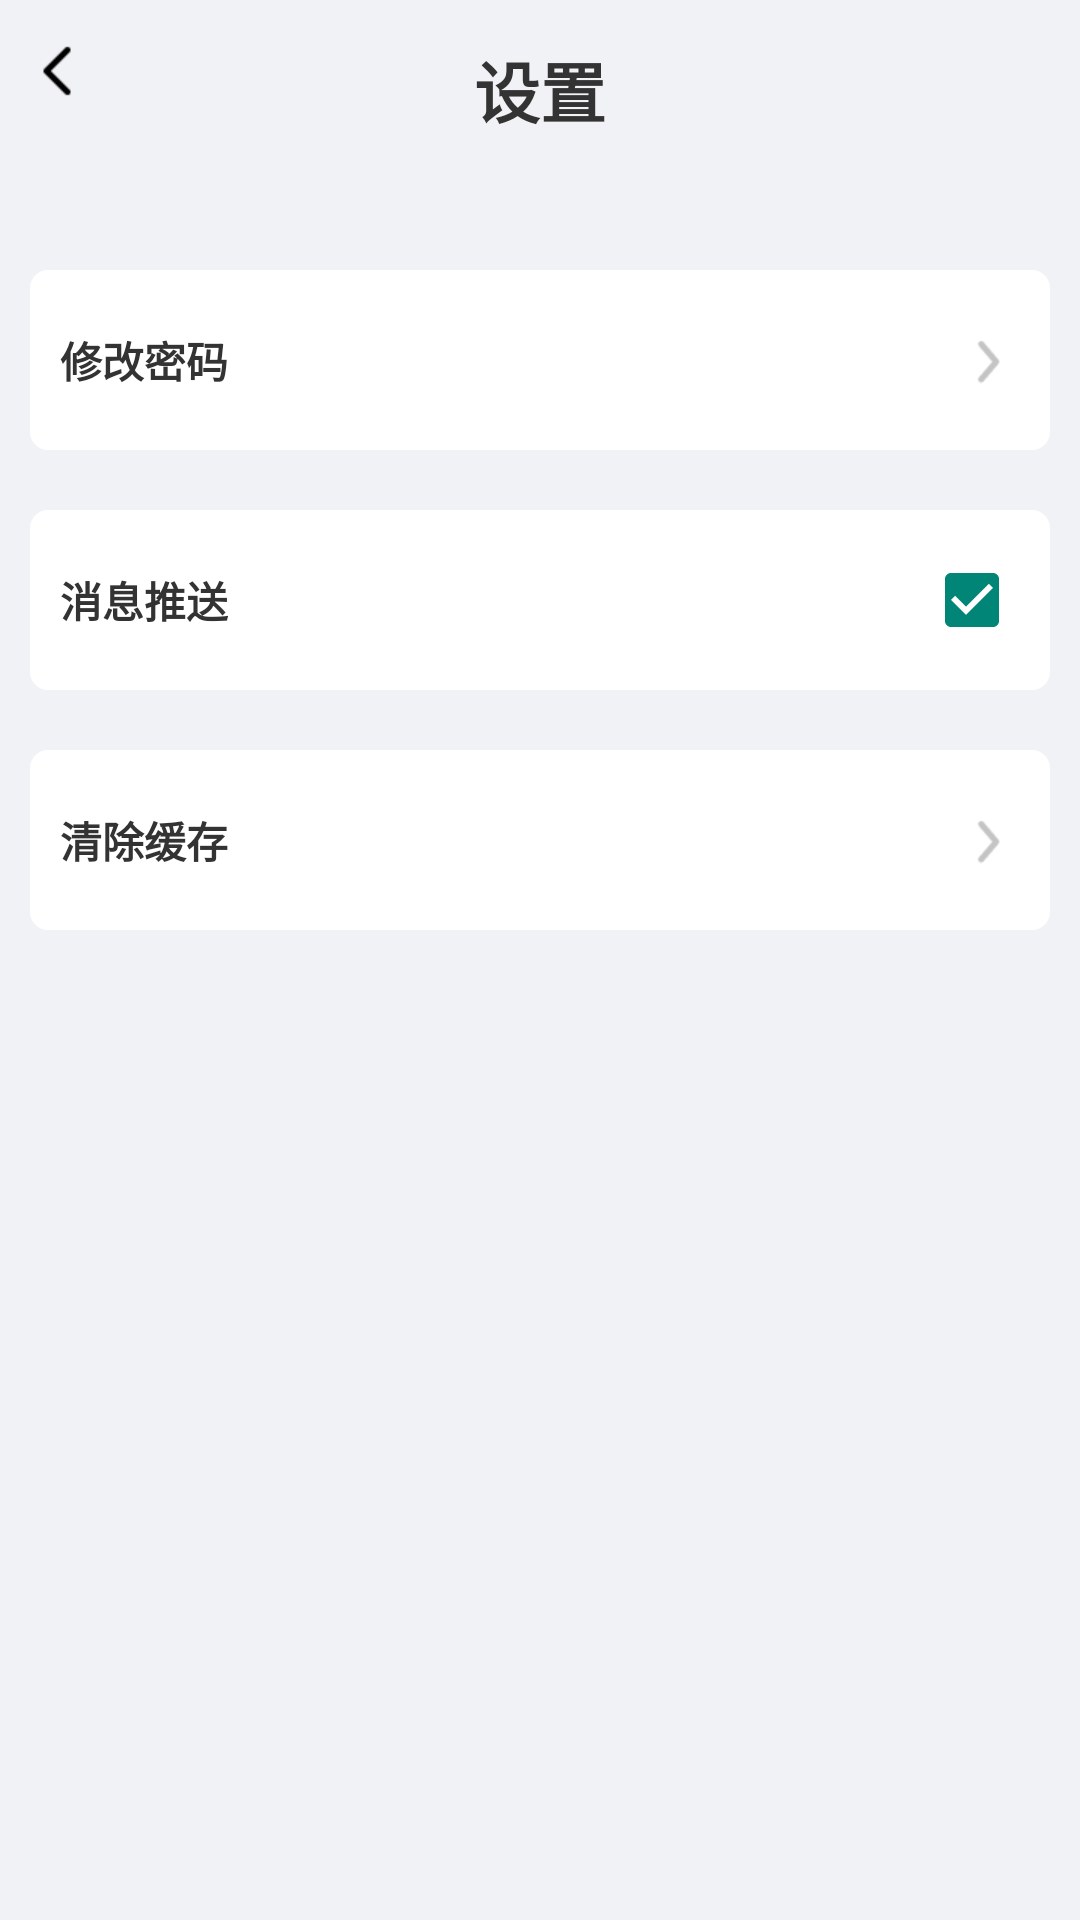

Where icons sit on this 1080 x 1920 app screen, as (x1, y1, x2, y2):
back: (43, 46, 71, 96)
next: (978, 341, 999, 382), (978, 821, 999, 862)
